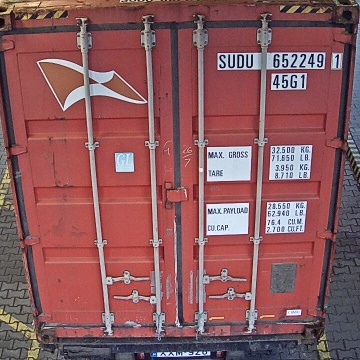serial_id: (218, 53, 342, 69)
